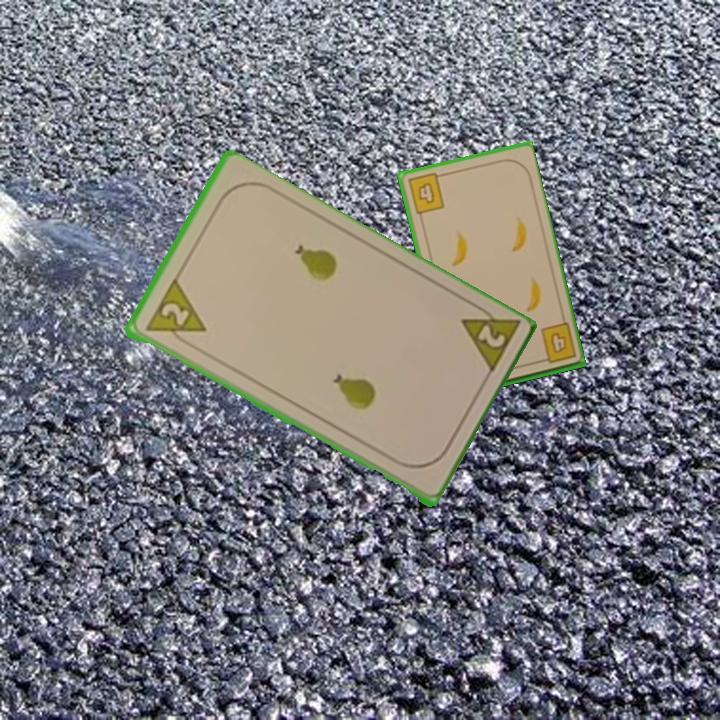2p: (456, 298, 522, 379), (141, 277, 208, 350)
4b: (534, 319, 579, 366), (404, 170, 447, 217)
